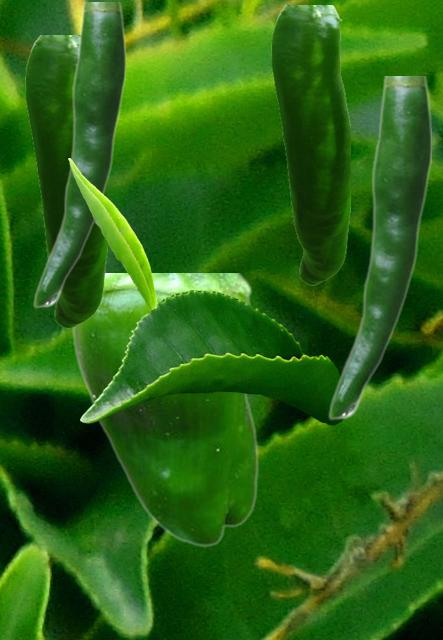green_chili: (71, 273, 257, 546), (327, 76, 430, 419), (32, 2, 124, 307), (25, 35, 106, 327), (271, 5, 349, 284)
